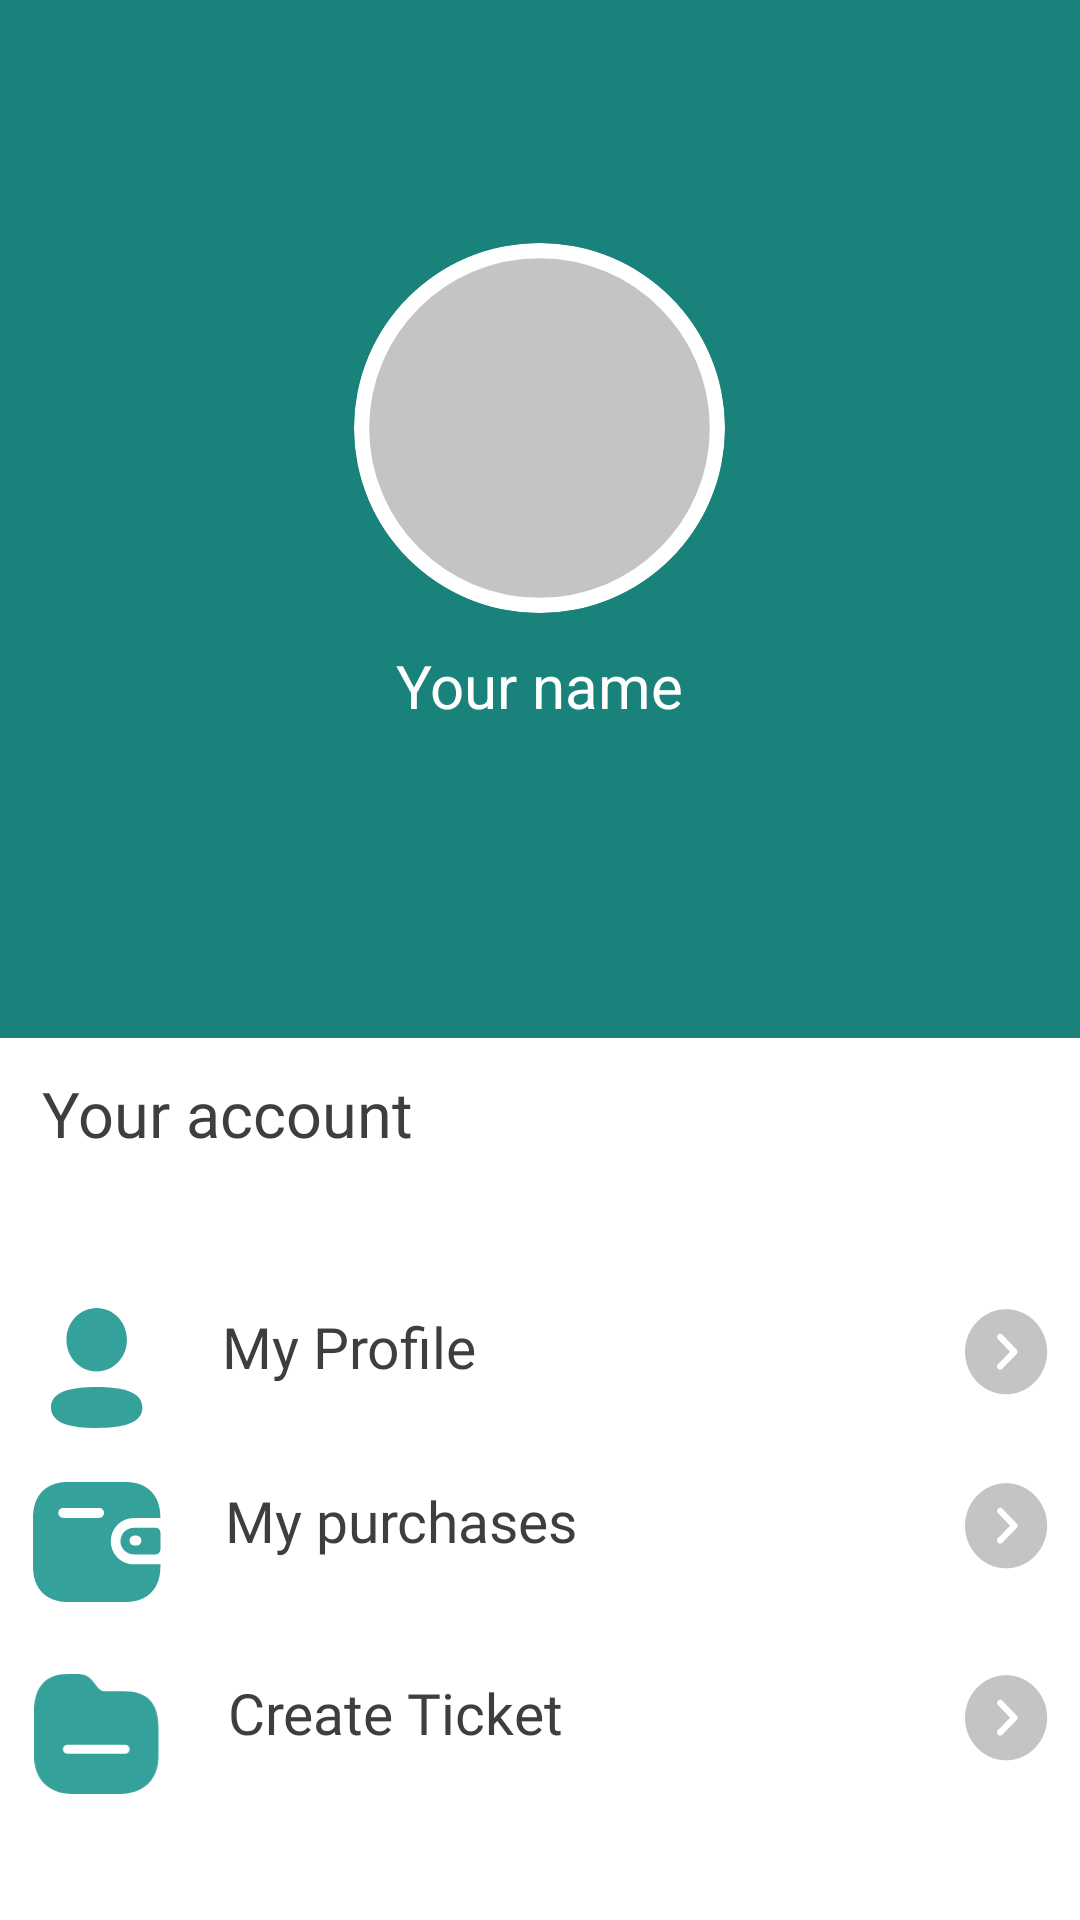

Icons on this 1080px×1920px Android screen, each with its box as (x1, y1, x2, y2):
arrow: (965, 1309, 1047, 1394), (965, 1483, 1047, 1568), (965, 1675, 1047, 1760)
folder: (34, 1674, 159, 1794)
wallet: (33, 1482, 161, 1602)
